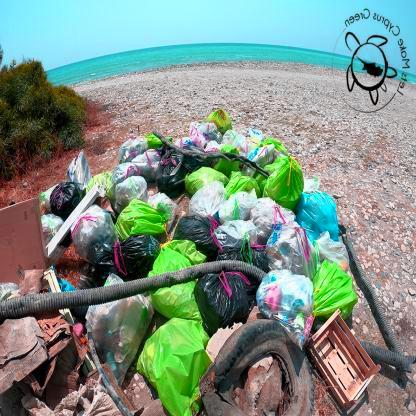Trash: (81, 273, 154, 379), (135, 316, 210, 416), (152, 236, 208, 316), (199, 264, 257, 324), (259, 265, 314, 328), (69, 206, 117, 265), (307, 263, 357, 319), (293, 193, 343, 245), (263, 225, 316, 274), (264, 155, 302, 203), (212, 218, 258, 256), (141, 186, 179, 231), (187, 178, 226, 220), (184, 160, 226, 198), (111, 176, 147, 216), (218, 187, 257, 220), (124, 148, 160, 180), (118, 134, 150, 170), (49, 179, 80, 215), (225, 131, 261, 160), (199, 108, 228, 141), (69, 151, 92, 183)
